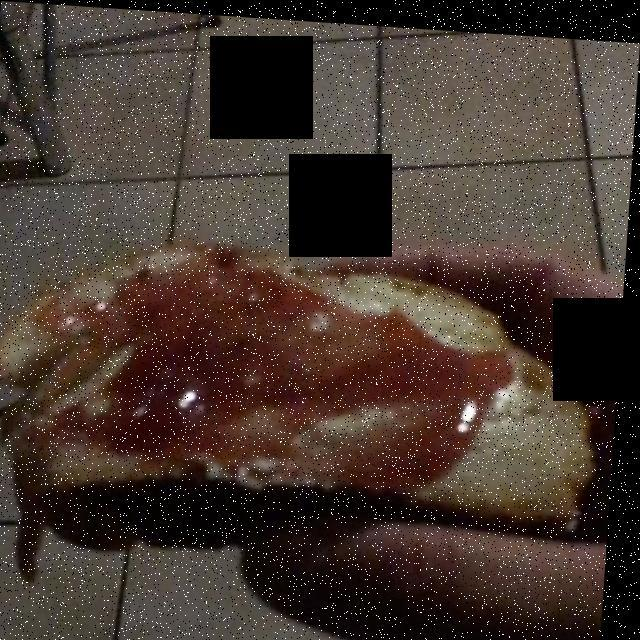bread: (8, 236, 585, 542)
butter: (177, 287, 543, 484)
jam: (52, 251, 553, 489)
